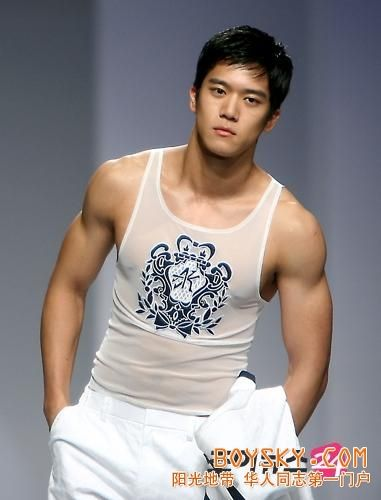person: (69, 37, 332, 491)
